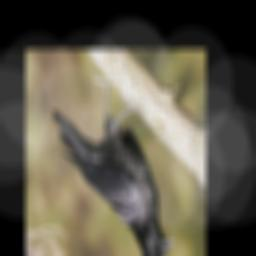Crow: (52, 70, 177, 256)
